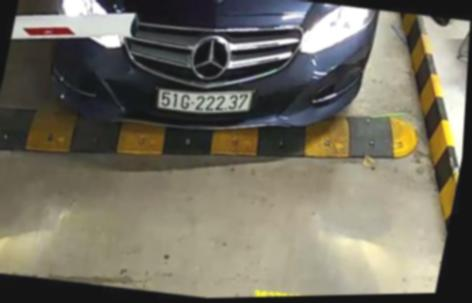License_Plate: (155, 84, 254, 119)
